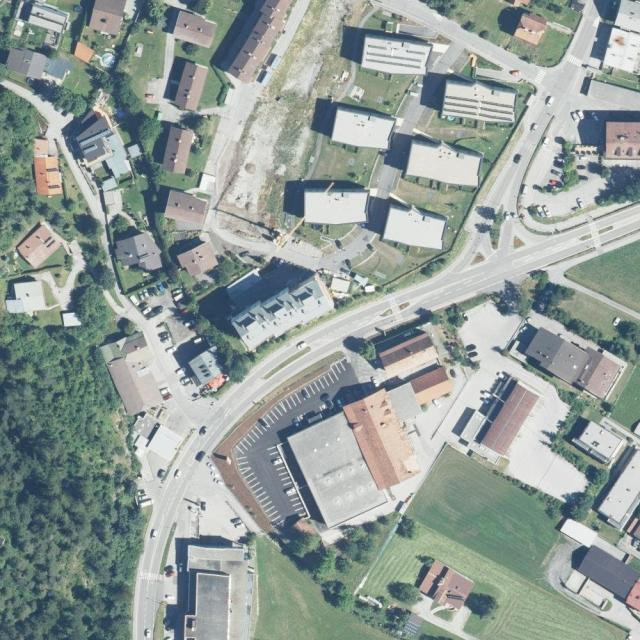building: (285, 410, 388, 529), (228, 271, 336, 354), (341, 388, 424, 492), (100, 329, 174, 418), (65, 104, 138, 191), (403, 135, 487, 197), (480, 382, 540, 457), (575, 544, 640, 603), (442, 77, 519, 126), (382, 201, 449, 253), (330, 104, 396, 154), (417, 560, 475, 615), (362, 33, 432, 78), (568, 345, 624, 401), (3, 45, 74, 87), (378, 332, 439, 379), (112, 230, 166, 280), (571, 416, 624, 466), (14, 221, 64, 270), (304, 188, 369, 223), (161, 189, 209, 235), (546, 339, 592, 387), (173, 60, 210, 113), (159, 125, 196, 176), (409, 365, 455, 406), (171, 9, 218, 49), (522, 326, 564, 370), (176, 240, 220, 279), (3, 44, 49, 81), (387, 382, 424, 423), (188, 349, 225, 386), (513, 10, 549, 47), (12, 279, 46, 314), (34, 156, 63, 196), (459, 410, 487, 444), (71, 41, 96, 64), (5, 298, 25, 315), (34, 138, 49, 157)
greenland: (0, 315, 145, 639), (405, 443, 574, 584), (263, 491, 386, 613), (34, 182, 136, 294), (86, 39, 173, 161), (330, 253, 453, 309), (0, 86, 38, 250), (180, 313, 257, 386), (422, 112, 513, 168), (546, 392, 608, 474), (118, 148, 193, 215), (192, 250, 251, 335), (164, 107, 219, 189), (486, 468, 568, 523), (107, 187, 178, 249), (342, 61, 414, 117), (311, 138, 379, 191), (558, 460, 611, 526), (412, 293, 494, 334), (394, 178, 475, 219), (21, 75, 93, 121), (65, 268, 110, 335), (486, 277, 537, 326), (6, 17, 62, 60), (501, 34, 570, 68), (208, 21, 252, 72), (550, 140, 581, 192), (109, 255, 146, 295), (462, 586, 501, 623), (340, 330, 382, 364), (211, 60, 236, 107), (384, 577, 422, 606), (140, 0, 168, 30), (141, 40, 163, 75), (394, 515, 421, 542), (164, 264, 192, 290), (175, 38, 203, 61)
metalled_road: (177, 162, 640, 446), (214, 346, 403, 537), (370, 0, 559, 91), (475, 100, 555, 218), (533, 0, 603, 127), (54, 130, 113, 227), (0, 76, 75, 144), (101, 283, 143, 328)
